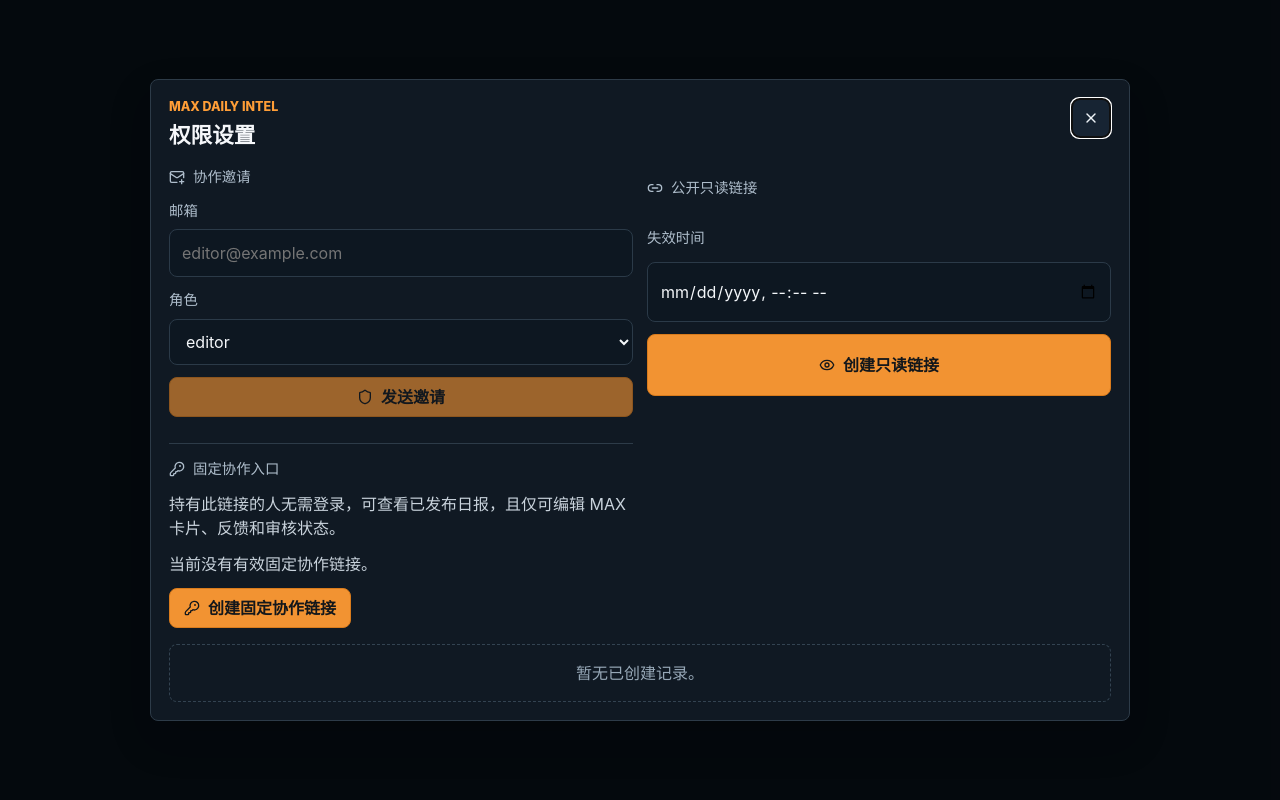
Test case: ShareDialog fixed collaboration link management › reconciles an active link when the create response is lost without exposing a secret
This screenshot has width=1280, height=800.
Click the button "创建固定协作链接" at (260, 608), box [169,588,351,628]
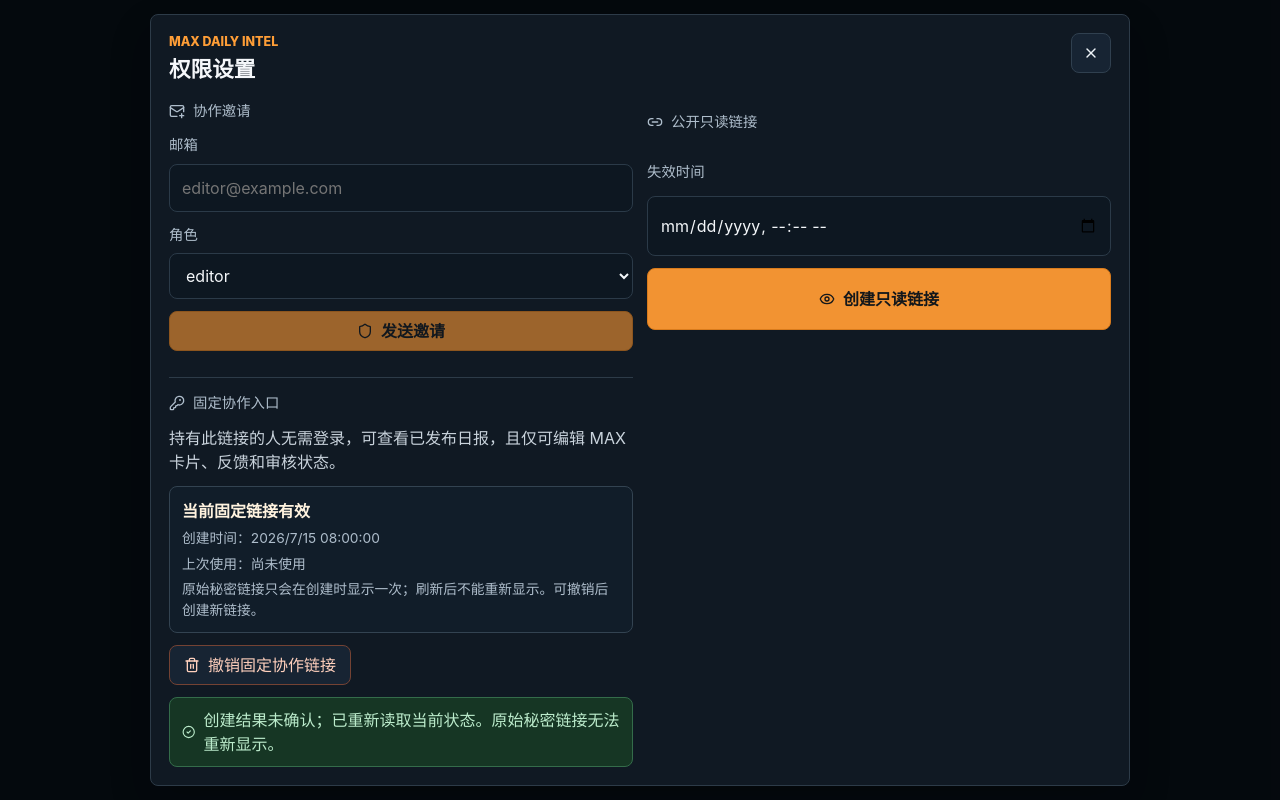
Expected: the text "当前固定链接有效" is shown, [182,501,310,521]
Expected: the text "创建结果未确认；已重新读取当前状态。原始秘密链接无法重新显示。" is shown, [169,697,633,767]
